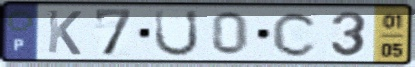0: (209, 10, 252, 58)
3: (327, 10, 369, 59)
7: (92, 7, 135, 59)
C: (271, 10, 321, 59)
K: (45, 8, 84, 57)
U: (152, 8, 201, 59)
